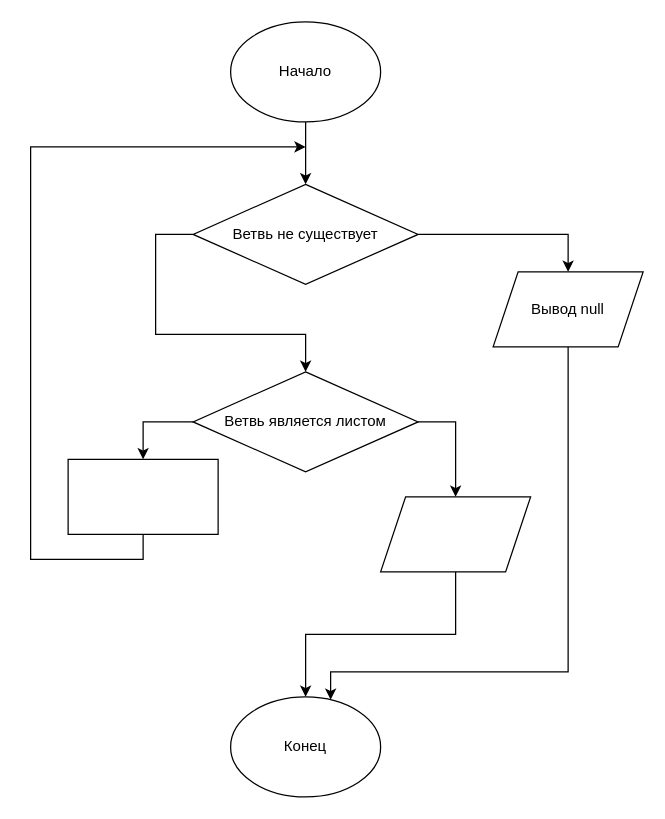
This 665x819 diagram has some shape labels left out. The shapes that lost their labels are listed below. From the top down, each one's box as (x1, y1, x2, y2) in pixels, then its label:
(67, 458, 218, 534): Перейти в первую подветвь
(379, 496, 531, 572): Вывод текущей ветви
